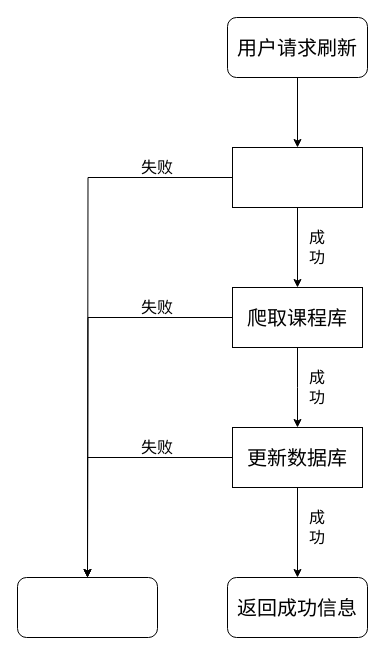
The diagram is 385 pixels wide and 655 high, and some of its shapes have lost their labels. The centre of each missing label's shape, as x and y in pixels:
"登录绑定账号" goes at point (297, 177).
"返回错误信息" goes at point (87, 607).
